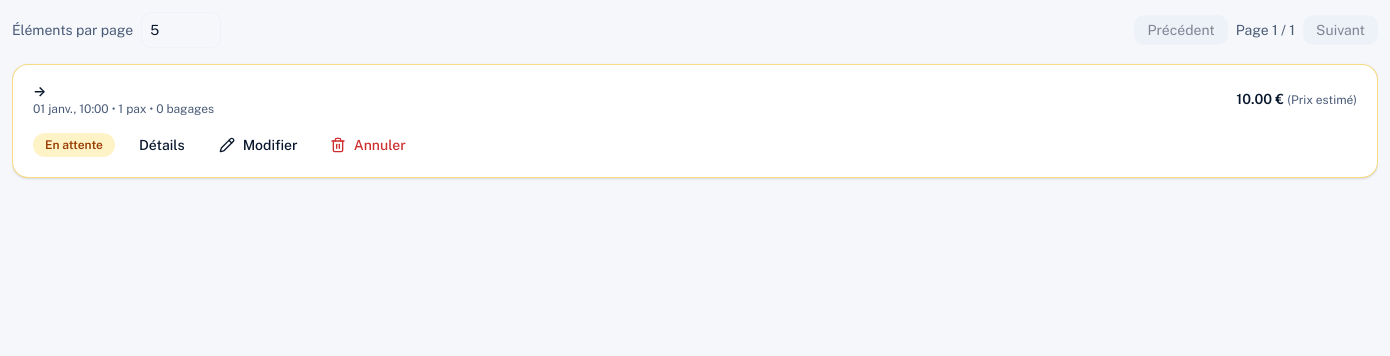
Test: BookingsManager › affiche les détails (id, chauffeur, notes) quand on clique sur Détails
Expected: the text "Note de test" is not shown
Click the button "Détails".
click(162, 145)  # box [127,129,197,161]
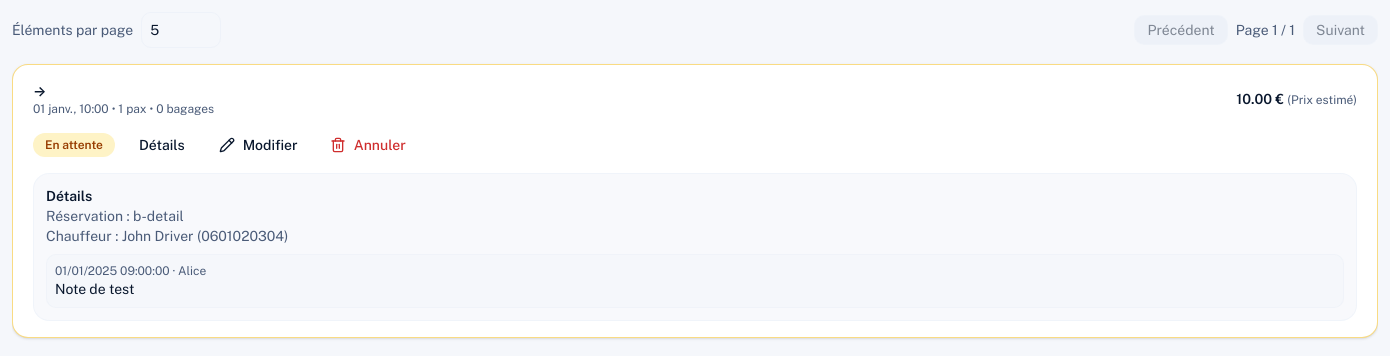
Now the text "Réservation : b-detail" is shown, box [46,208,184,224]
Now the text "Chauffeur : John Driver (0601020304)" is shown, box [46,228,288,244]
Now the text "Note de test" is shown, box [55,281,134,297]
